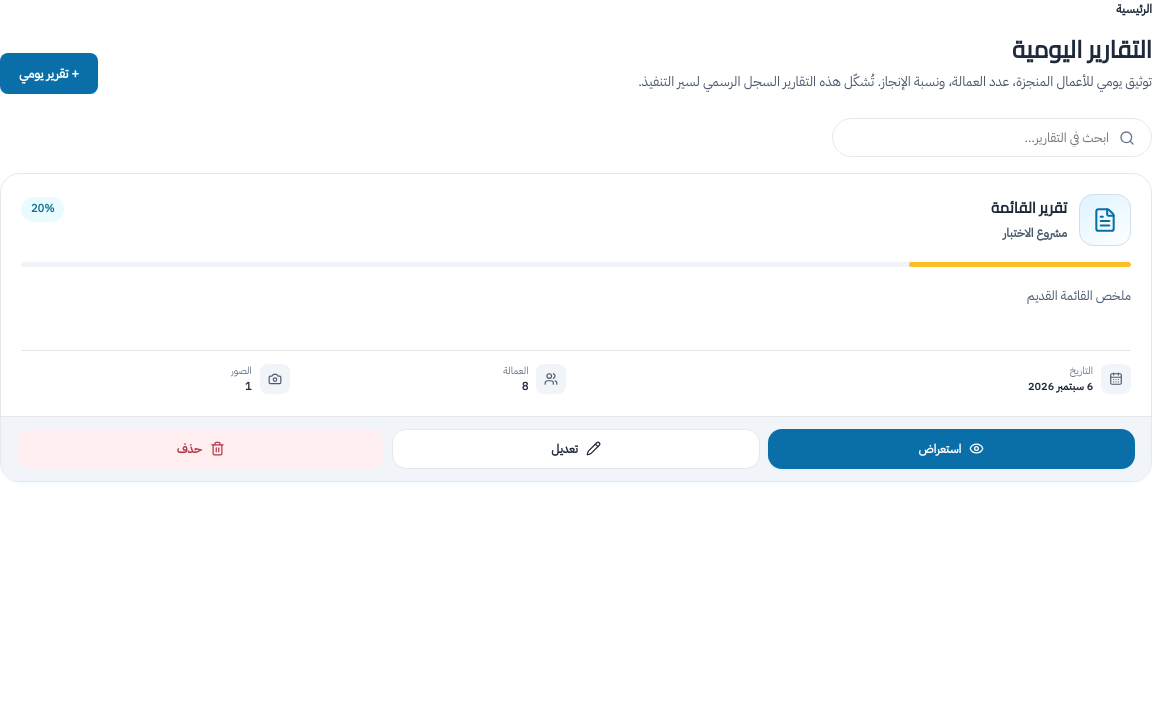
Test: DailyReportsPage detail and edit integration › loads actual detail values into the edit form
Click the button "تعديل": (576, 448) [392, 428, 760, 468]
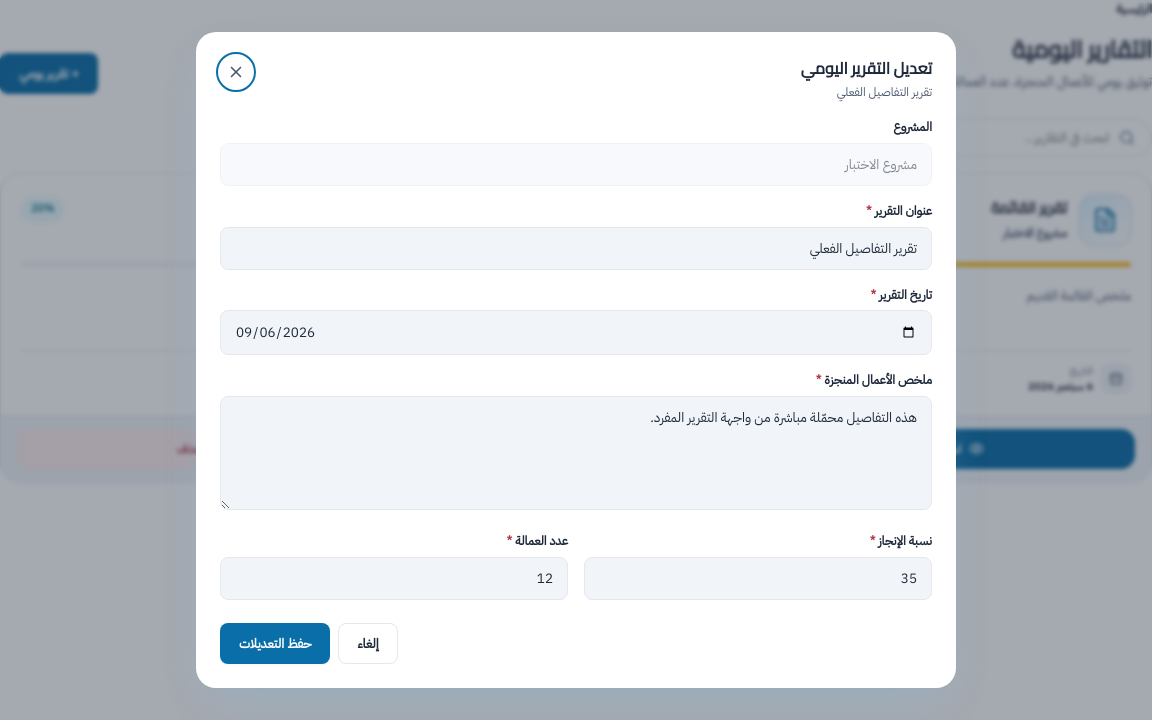
Result: the field showing "تقرير التفاصيل الفعلي" is shown at [220, 227, 932, 270]
Result: the text box labelled "ملخص الأعمال المنجزة*" holds "هذه التفاصيل محمّلة مباشرة من واجهة التقرير المفرد." at [220, 396, 932, 510]
Result: the number field labelled "نسبة الإنجاز*" holds "35" at [584, 557, 932, 600]
